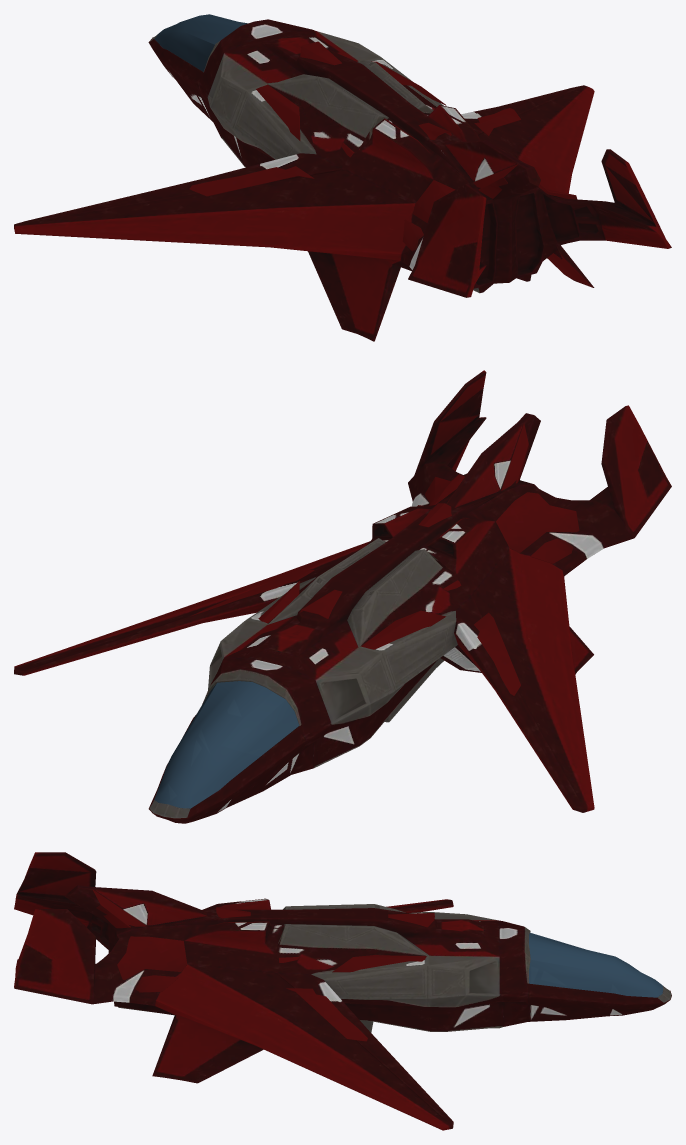
The model's file is spaceship__low_poly.glb.
The picture shows the model from 3 angles, top to bottom: view 1: azimuth 30°, elevation 25°; view 2: azimuth 150°, elevation 25°; view 3: azimuth 270°, elevation 25°; orthographic projection. The views are drawn at different scales.
Parts seen in each view (by area): view 1: Cube.009; view 2: Cube.009; view 3: Cube.009.
Boxes of the visible parts, box(x1,y1,x2,y2) form: Cube.009: box(14, 14, 671, 341); Cube.009: box(14, 370, 671, 823); Cube.009: box(14, 852, 671, 1130).
Bounding box in the file's own units: 6.46 × 2.08 × 7.85.
Materials: 2 (1 with a texture image).
